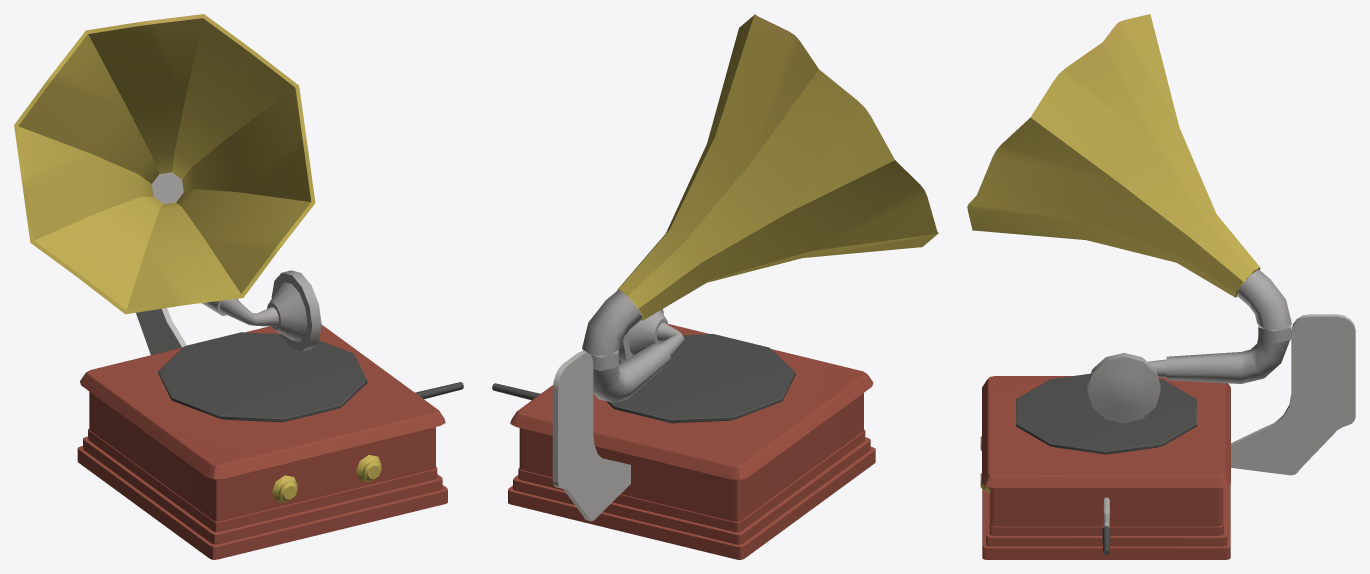
File: grammofono.fbx
3 views of the same model, side by side, from view 1: azimuth 30°, elevation 25°; view 2: azimuth 150°, elevation 25°; view 3: azimuth 270°, elevation 25° (orthographic). The views are drawn at different scales.
Visible parts, largest first — view 1: Grammofono; view 2: Grammofono; view 3: Grammofono.
Part boxes in pixels (<box>): Grammofono: <box>14,14,463,559</box>; Grammofono: <box>492,14,938,559</box>; Grammofono: <box>967,14,1355,559</box>.
Size of the model in its own units: 20.96 by 22.05 by 17.7.
